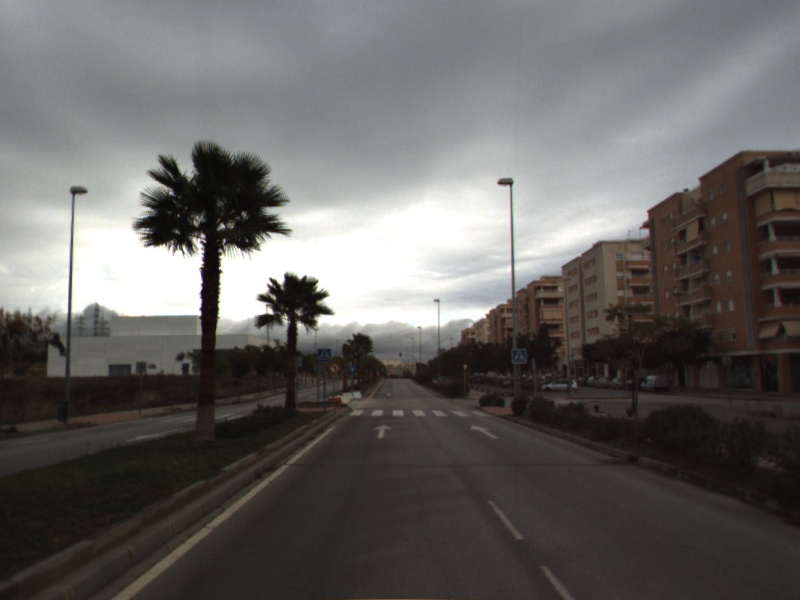STRAIGHT: (468, 423, 501, 440), (371, 422, 394, 440)
